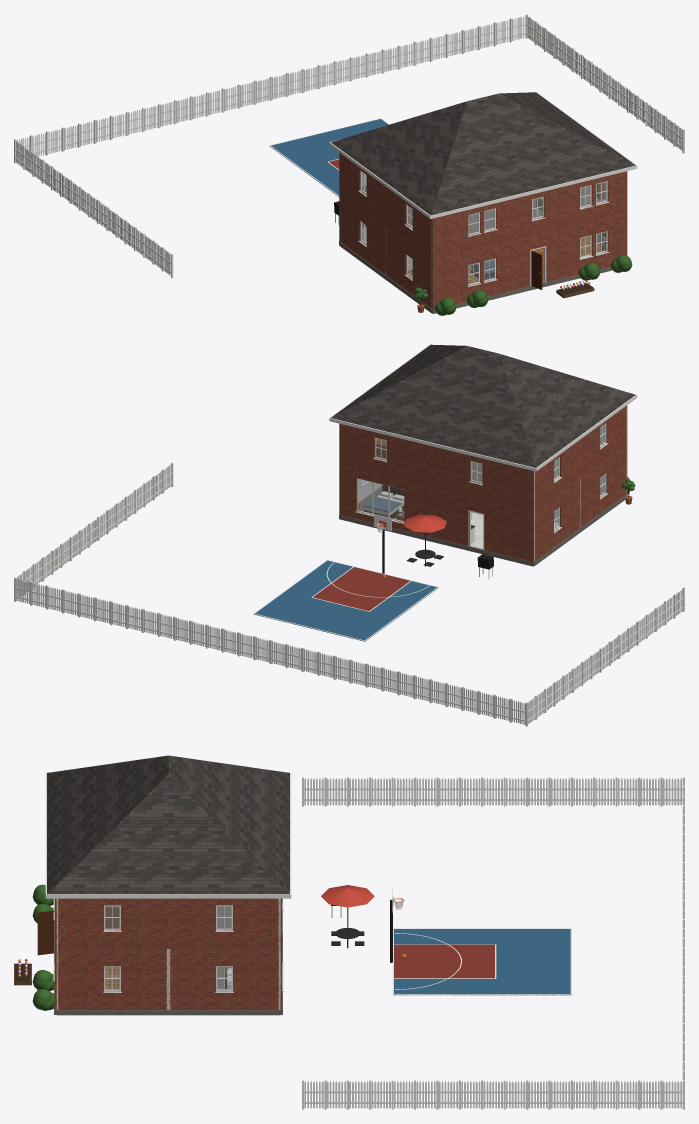
File: house_N4.glb
The picture shows the model from 3 angles, top to bottom: view 1: azimuth 30°, elevation 25°; view 2: azimuth 150°, elevation 25°; view 3: azimuth 270°, elevation 25°; orthographic projection. The views are drawn at different scales.
Parts seen in each view (by area): view 1: house_N4; view 2: house_N4; view 3: house_N4.
Part boxes in pixels (x1,y1,x2,y2): house_N4: [14, 14, 684, 315]; house_N4: [14, 344, 684, 726]; house_N4: [14, 755, 684, 1109].
Bounding box in the file's own units: 32.1 × 9.55 × 29.95.
Materials: 55 (9 with a texture image).
